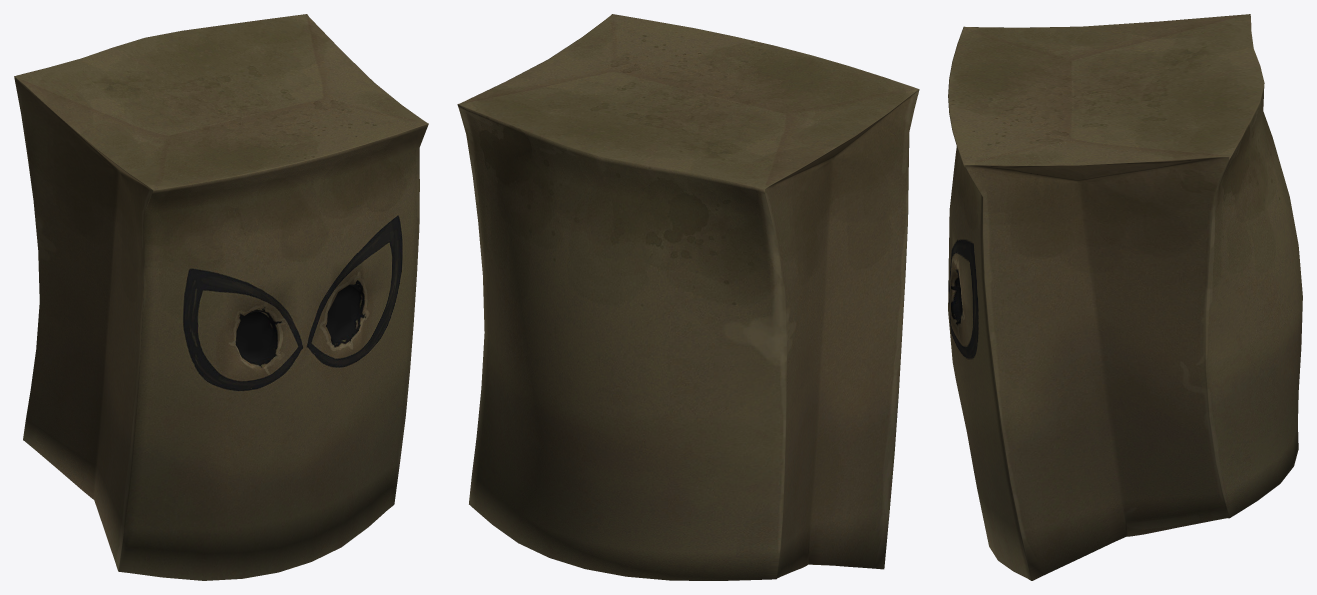
The model's file is spiderman_paperbag_mask.glb.
3 views of the same model, side by side, from view 1: azimuth 30°, elevation 25°; view 2: azimuth 150°, elevation 25°; view 3: azimuth 270°, elevation 25° (orthographic). The views are drawn at different scales.
Visible parts, largest first — view 1: sm_6; view 2: sm_6; view 3: sm_6.
Part boxes in pixels (x1,y1,x2,y2): sm_6: (14,14,428,580); sm_6: (457,14,919,580); sm_6: (948,14,1302,580).
Size of the model in its own units: 0.2136 by 0.3115 by 0.2236.
1 material, 1 textured.
